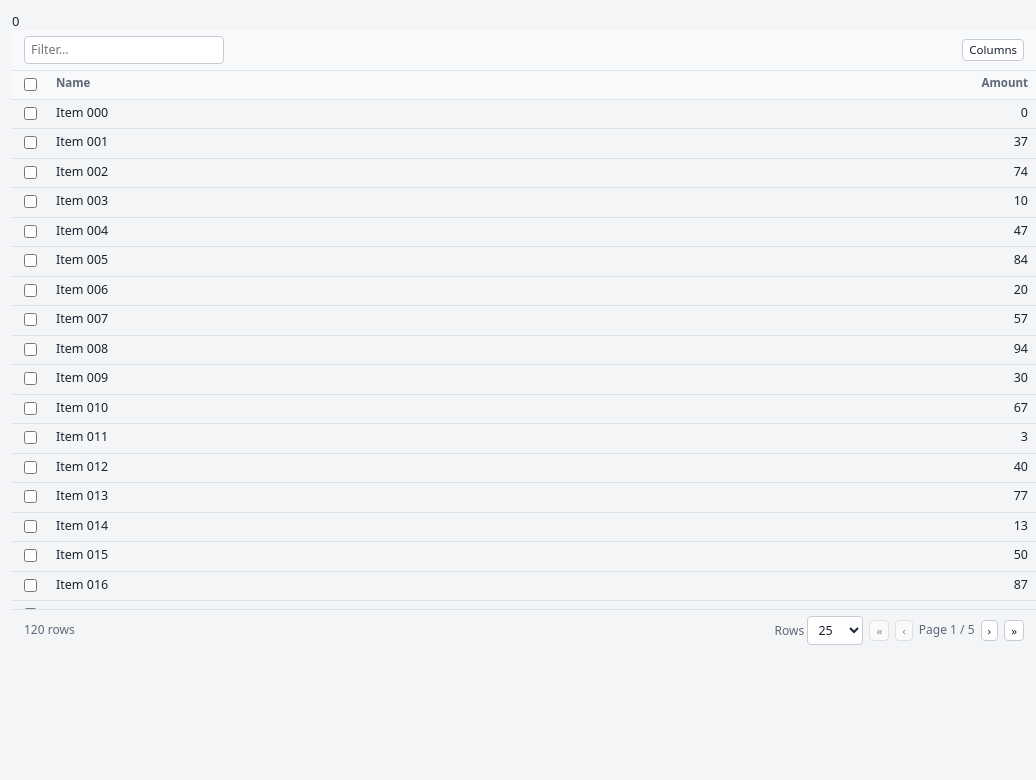
Test: DataTable › supports row selection across the page
The width and height of the screenshot is (1036, 780).
Click the checkbox named "Select page". click: click(30, 84)
box: x1=24 y1=78 x2=37 y2=91
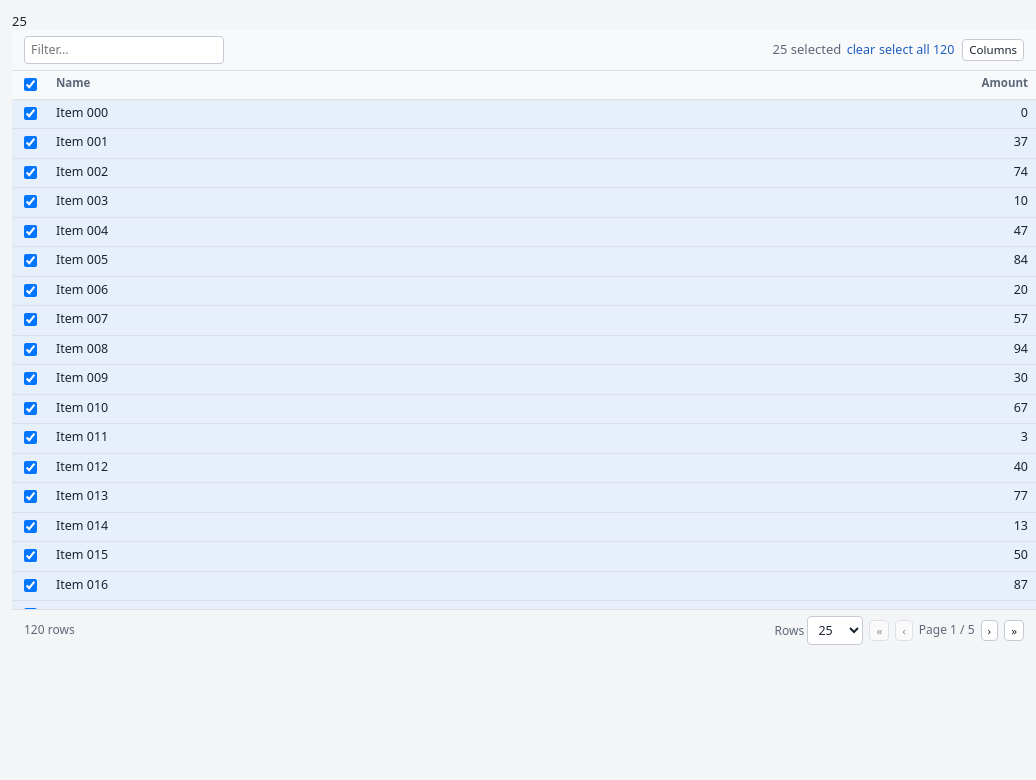
Now the text with test id "count" reads "25", box x1=12 y1=12 x2=27 y2=30
Click the button "select all 120". click: click(917, 50)
box: x1=877 y1=41 x2=956 y2=60
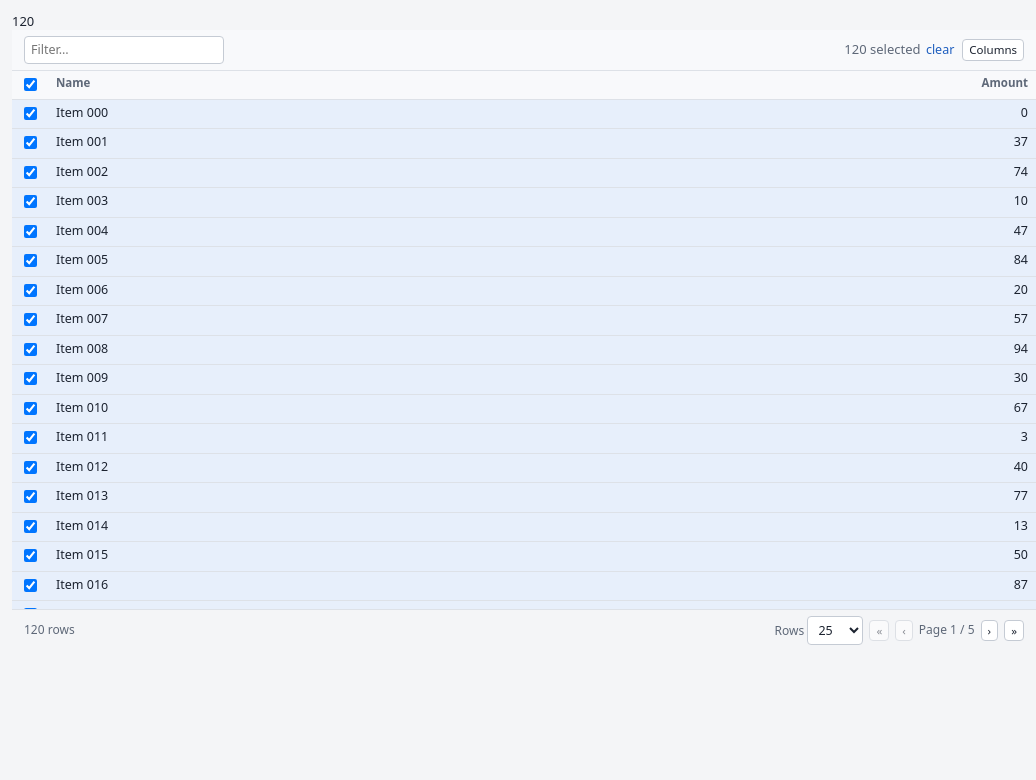
Now the text with test id "count" reads "120", box x1=12 y1=12 x2=34 y2=30
